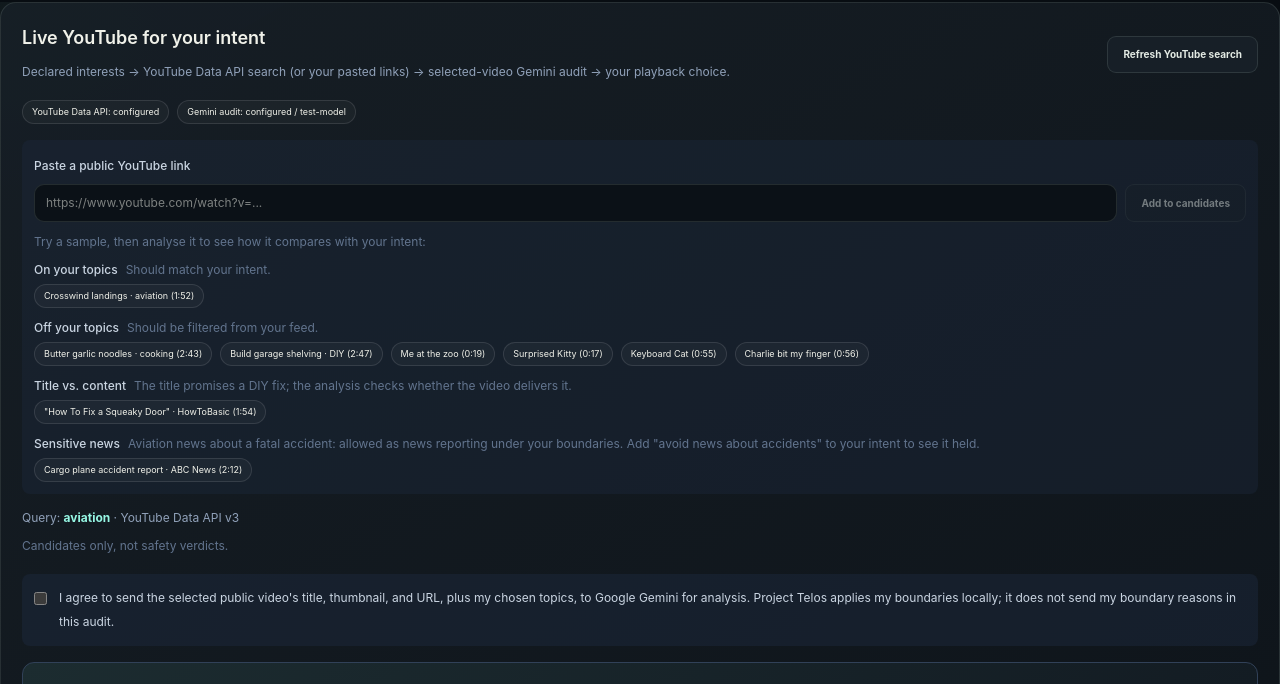
Test: YouTube discovery › does not turn insufficient evidence into a scored or safe result
The width and height of the screenshot is (1280, 684).
Step 1. Click the checkbox labelled "I agree to send" → [40, 598], box x1=34 y1=592 x2=47 y2=605
(page scrolled)
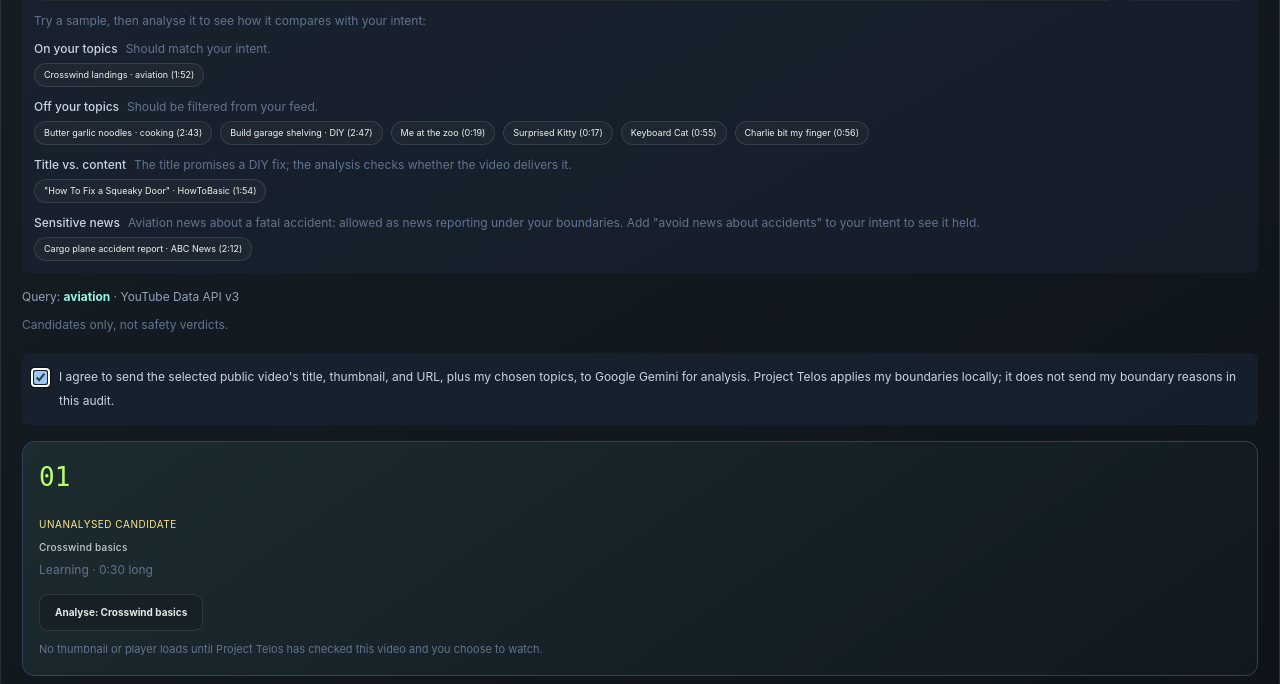
Step 2. Click the button "Analyse: Crosswind basics" → [121, 613], box x1=39 y1=594 x2=203 y2=631
(page scrolled)
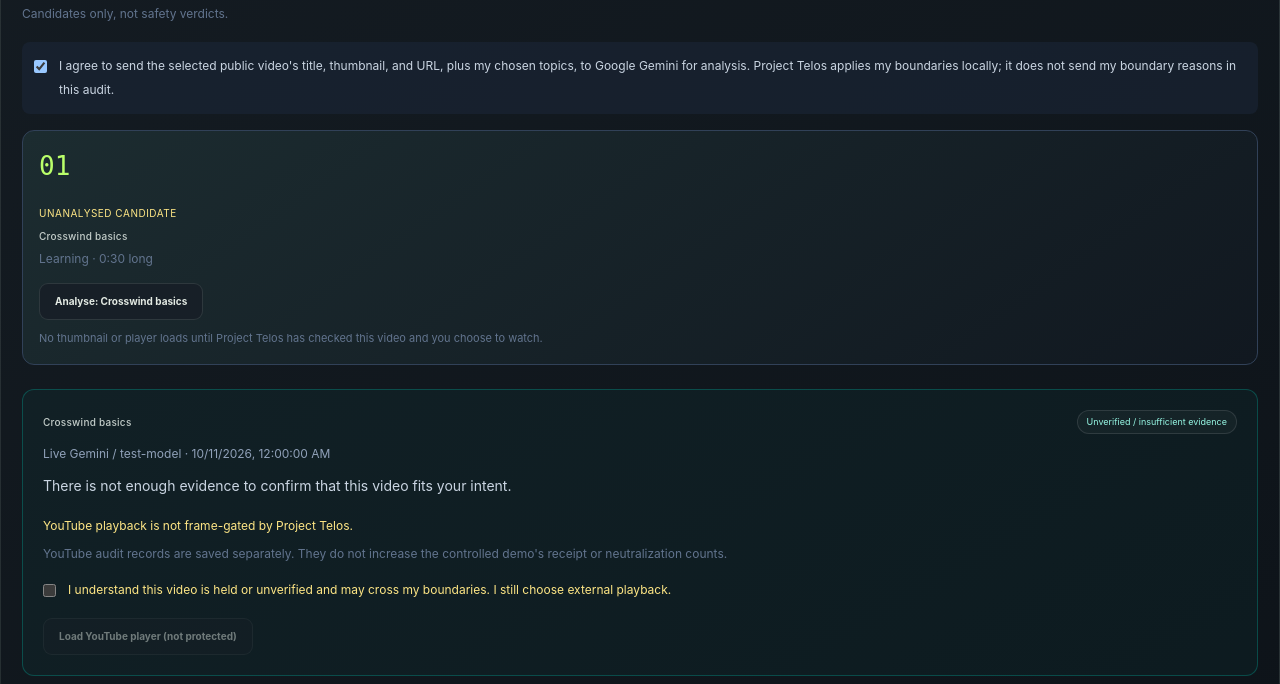
Expected: the text "Unverified / insufficient evidence" is shown, x1=1077 y1=410 x2=1237 y2=434
Expected: the button "Load YouTube player (not protected)" is disabled, x1=43 y1=618 x2=253 y2=655
